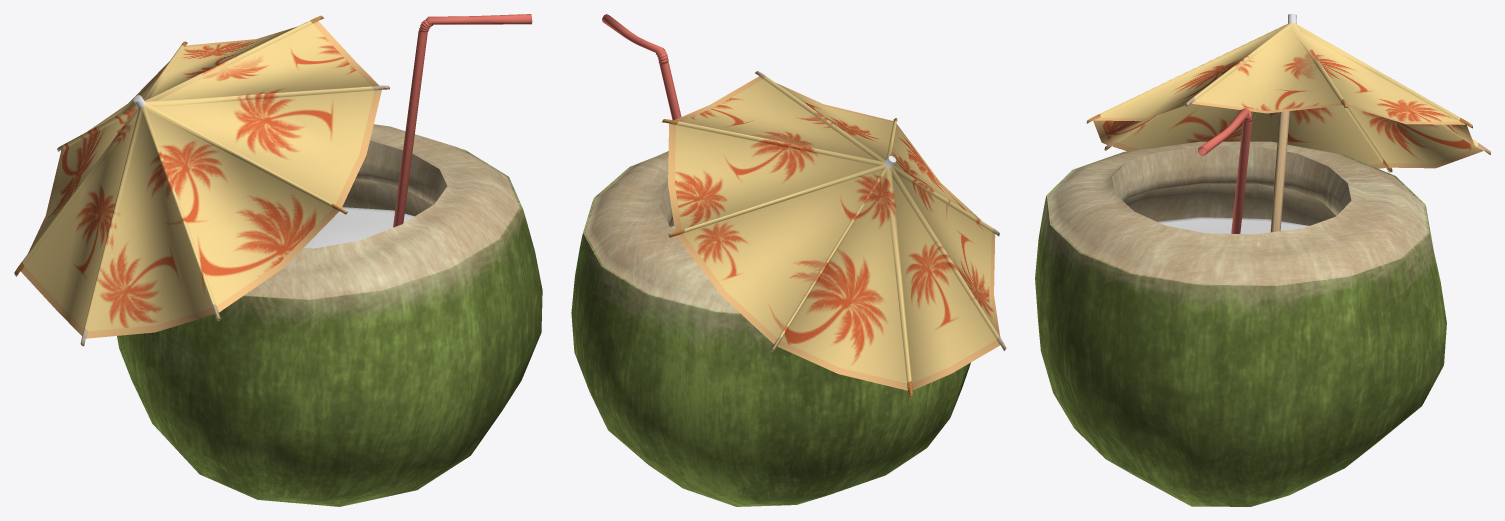
Rendered from coconutdrink_stylized.fbx.
The picture shows the model from 3 angles, left to right: view 1: azimuth 30°, elevation 25°; view 2: azimuth 150°, elevation 25°; view 3: azimuth 270°, elevation 25°; orthographic projection. The views are drawn at different scales.
Parts seen in each view (by area): view 1: Coconutdrink.001, Coconutdrink.003, Coconutdrink.002, Coconutdrink.004; view 2: Coconutdrink.003, Coconutdrink.001, Coconutdrink.002; view 3: Coconutdrink.001, Coconutdrink.003, Coconutdrink.002, Coconutdrink.004.
Boxes of the visible parts, box(x1,y1,x2,y2) form: Coconutdrink.001: box(117, 124, 542, 506); Coconutdrink.003: box(14, 15, 389, 346); Coconutdrink.002: box(393, 14, 532, 227); Coconutdrink.004: box(304, 207, 414, 248); Coconutdrink.003: box(662, 71, 1006, 398); Coconutdrink.001: box(571, 151, 970, 506); Coconutdrink.002: box(602, 14, 681, 120); Coconutdrink.001: box(1035, 141, 1446, 506); Coconutdrink.003: box(1086, 14, 1490, 232); Coconutdrink.002: box(1198, 108, 1252, 233); Coconutdrink.004: box(1157, 217, 1309, 234).
Size of the model in its own units: 241 by 233 by 225.
